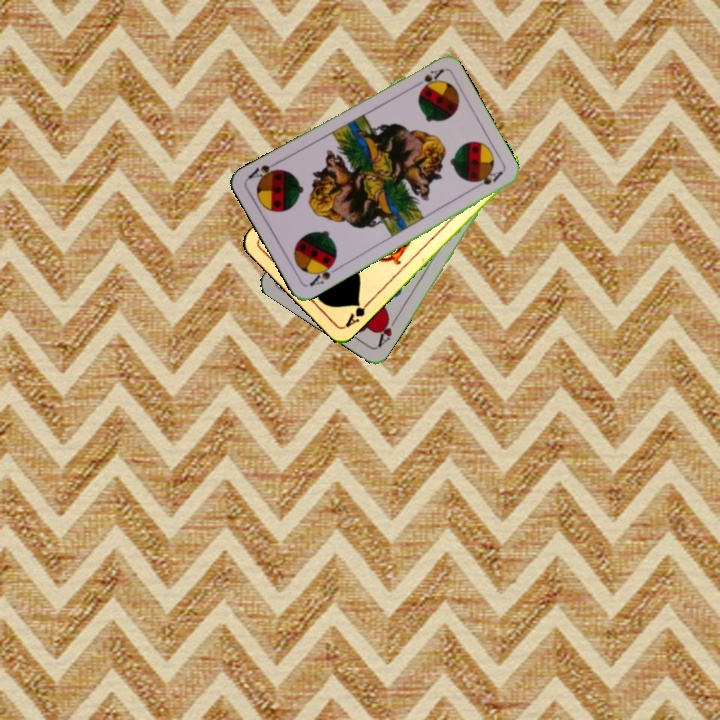GA: (341, 297, 373, 330)
HA: (373, 312, 400, 350)
SA: (305, 258, 338, 289), (409, 65, 446, 92)
